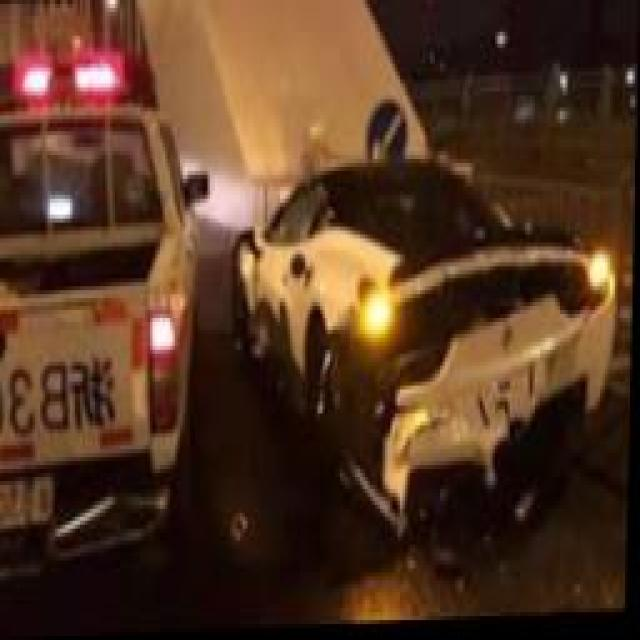Bumper: (360, 291, 614, 533)
Dickey: (387, 228, 591, 368)
